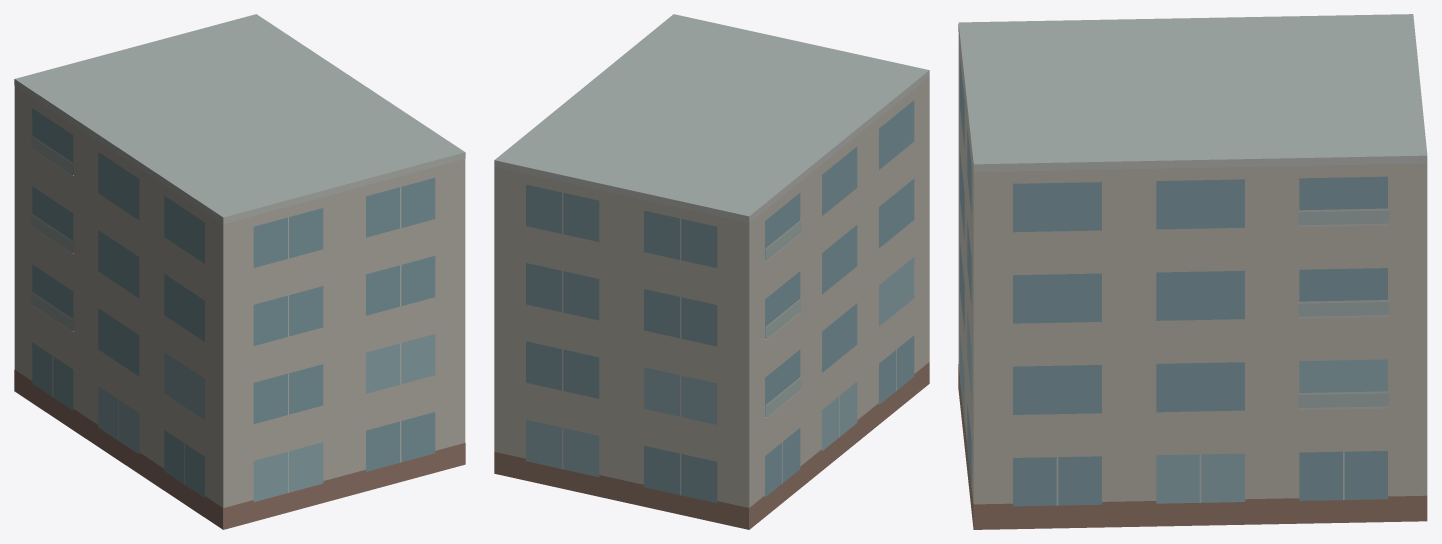
File: survey-upis-32644001.glb
3 renders of one model, left to right at view 1: azimuth 30°, elevation 25°; view 2: azimuth 150°, elevation 25°; view 3: azimuth 270°, elevation 25°, orthographic. The views are drawn at different scales.
Visible parts, largest first — view 1: survey-upis-32644001.tmp; view 2: survey-upis-32644001.tmp; view 3: survey-upis-32644001.tmp.
Boxes of the visible parts, x1=… form: survey-upis-32644001.tmp: x1=14, y1=14, x2=465, y2=529; survey-upis-32644001.tmp: x1=494, y1=14, x2=929, y2=529; survey-upis-32644001.tmp: x1=958, y1=14, x2=1427, y2=529.
Bounding box in the file's own units: 10.24 × 11.6 × 13.5.
